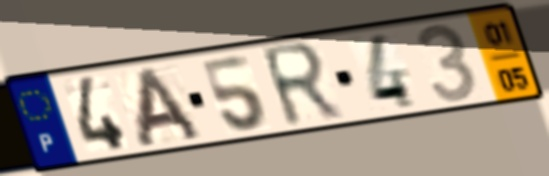3: (414, 21, 484, 106)
4: (361, 32, 421, 112), (77, 73, 131, 154)
5: (196, 50, 270, 133)
A: (135, 64, 207, 151)
R: (255, 38, 348, 133)
